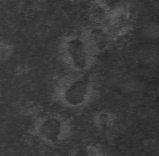RollMark: (60, 76, 98, 105), (62, 35, 92, 70), (33, 112, 66, 141)
